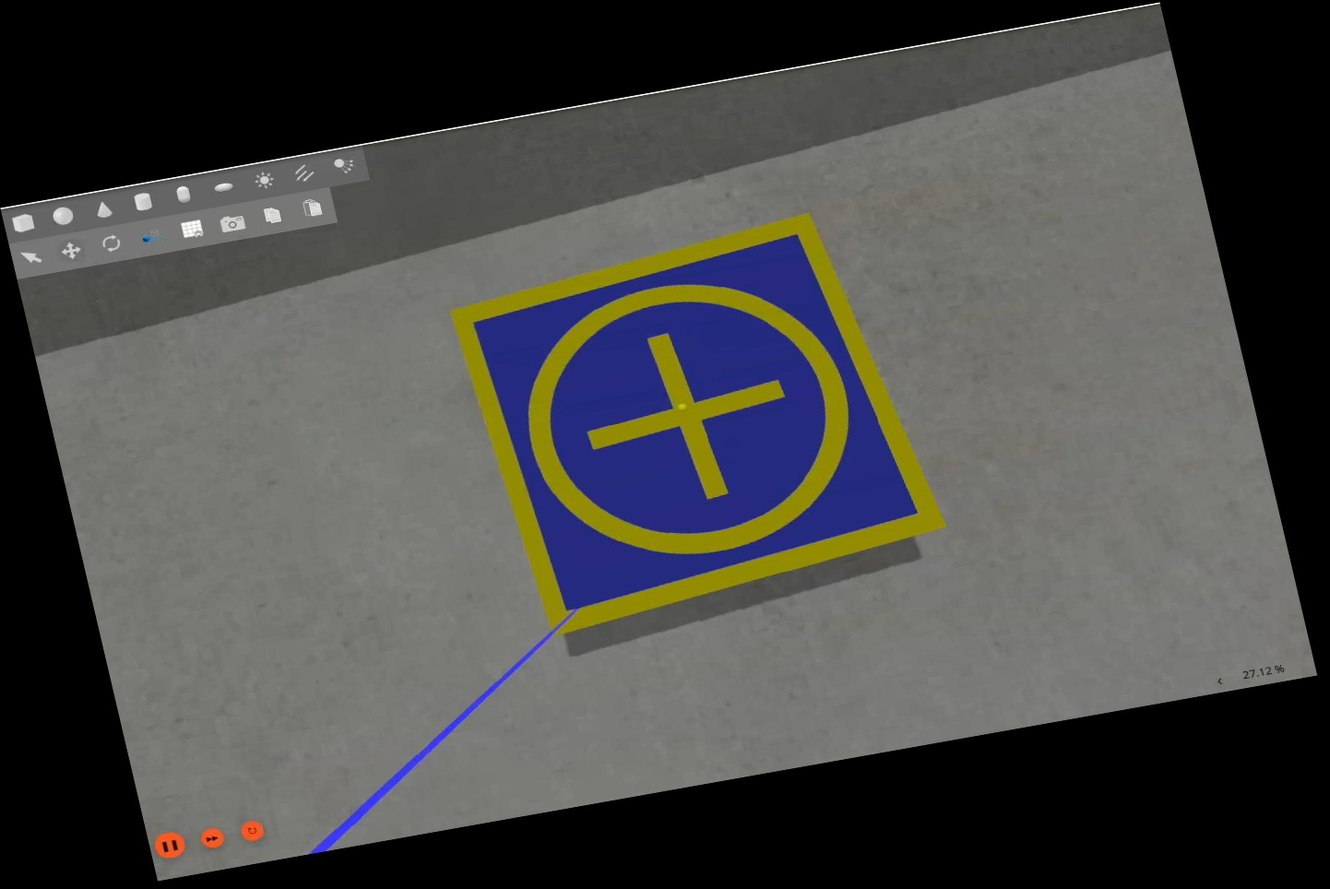small_base: (440, 201, 957, 642)
